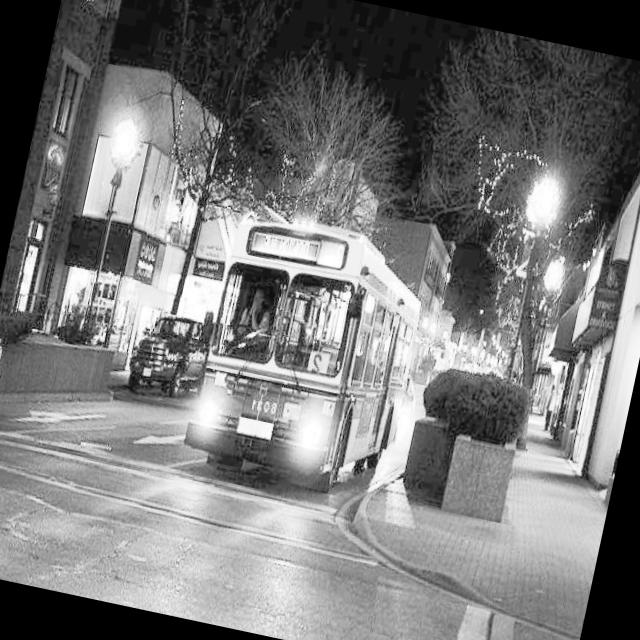Bus: (174, 217, 438, 508)
Car: (100, 290, 222, 423), (0, 281, 19, 437)
